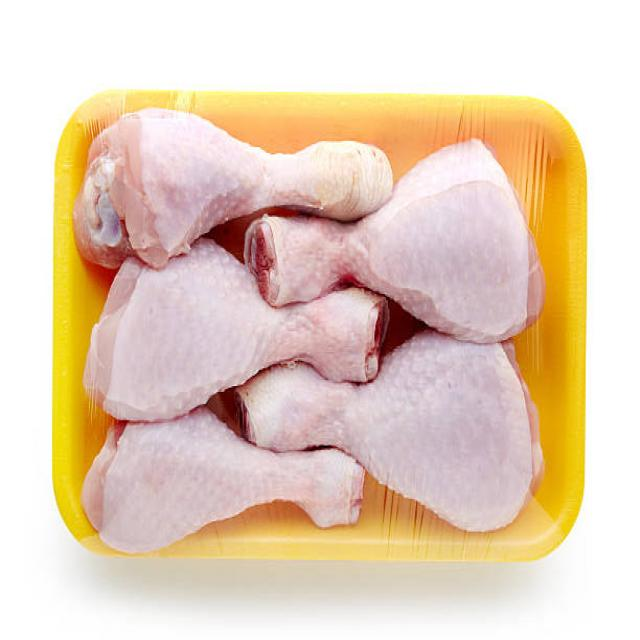Chicken: (249, 158, 540, 320), (60, 418, 363, 548), (79, 270, 381, 388), (73, 106, 384, 220)
